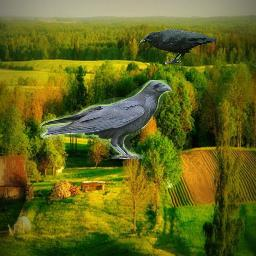Crow: (40, 80, 172, 159), (139, 29, 216, 65)
